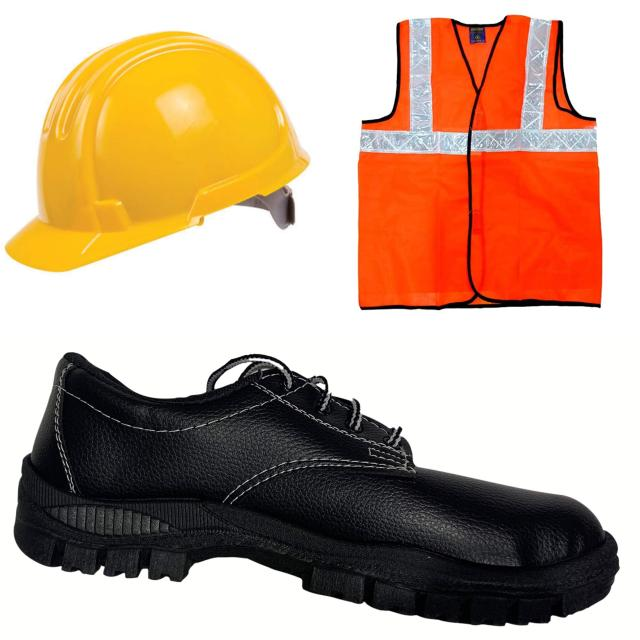helmet: (11, 19, 318, 284)
vest: (330, 11, 626, 320)
